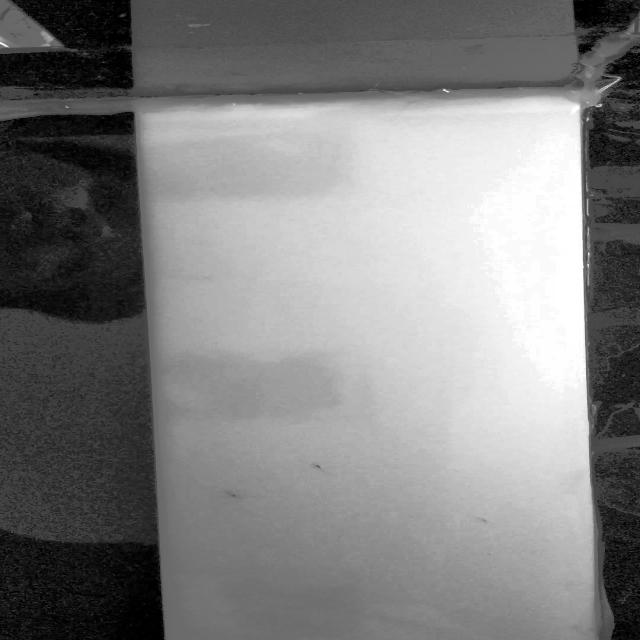shrimp: (307, 462, 337, 474), (217, 490, 244, 501), (470, 514, 490, 527)
